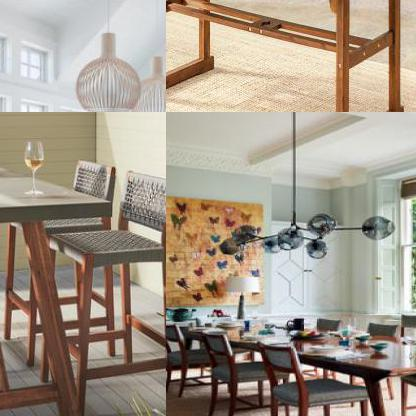table: (0, 145, 115, 415), (166, 0, 415, 111), (177, 310, 415, 415)
